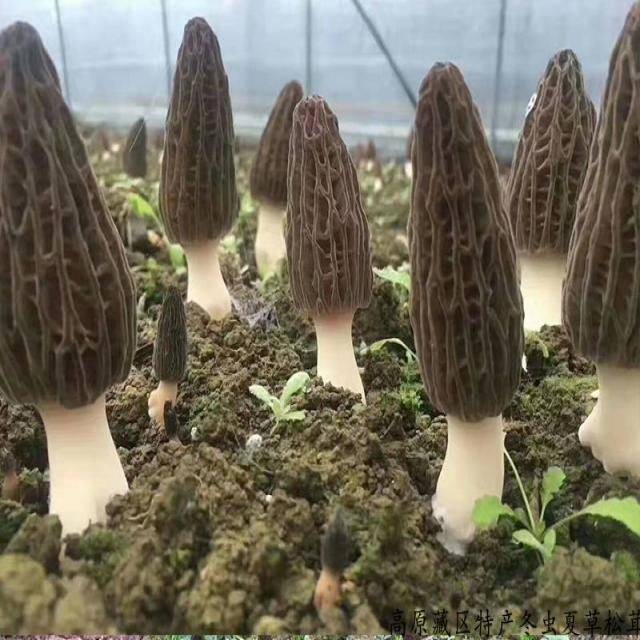Morchella esculenta: (0, 23, 137, 529), (413, 62, 522, 535), (567, 5, 640, 473), (282, 97, 371, 395), (503, 52, 594, 332), (156, 17, 240, 300), (250, 81, 305, 278), (148, 287, 188, 413)
